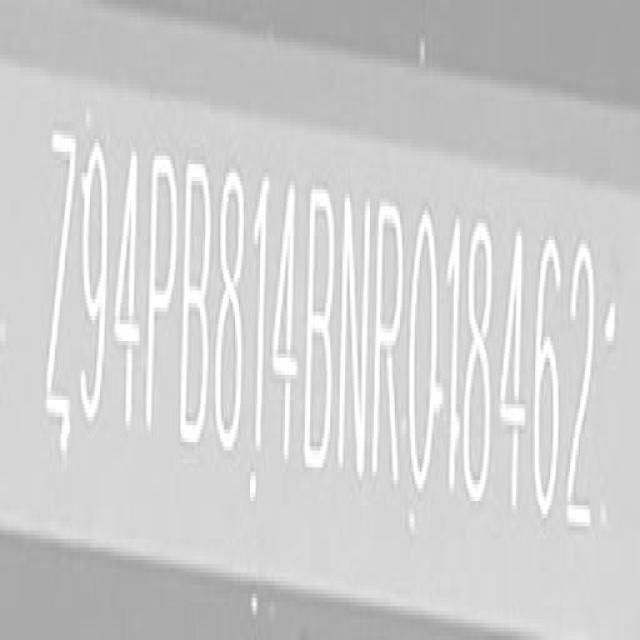0: (406, 204, 443, 493)
1: (444, 210, 462, 490), (252, 171, 268, 457)
2: (566, 234, 594, 522)
4: (113, 142, 142, 443), (498, 218, 526, 515), (272, 176, 298, 460)
6: (531, 234, 560, 518)
8: (215, 156, 244, 454), (465, 215, 493, 501)
9: (76, 130, 109, 435)
B: (181, 145, 213, 451), (305, 182, 335, 476)
N: (337, 198, 372, 477)
P: (148, 155, 178, 449)
R: (372, 202, 403, 480)
Z: (44, 122, 78, 430)
